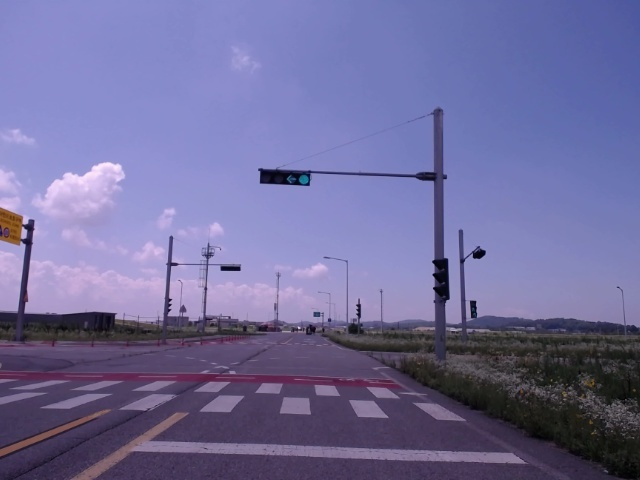all_green_4: (263, 169, 313, 184)
